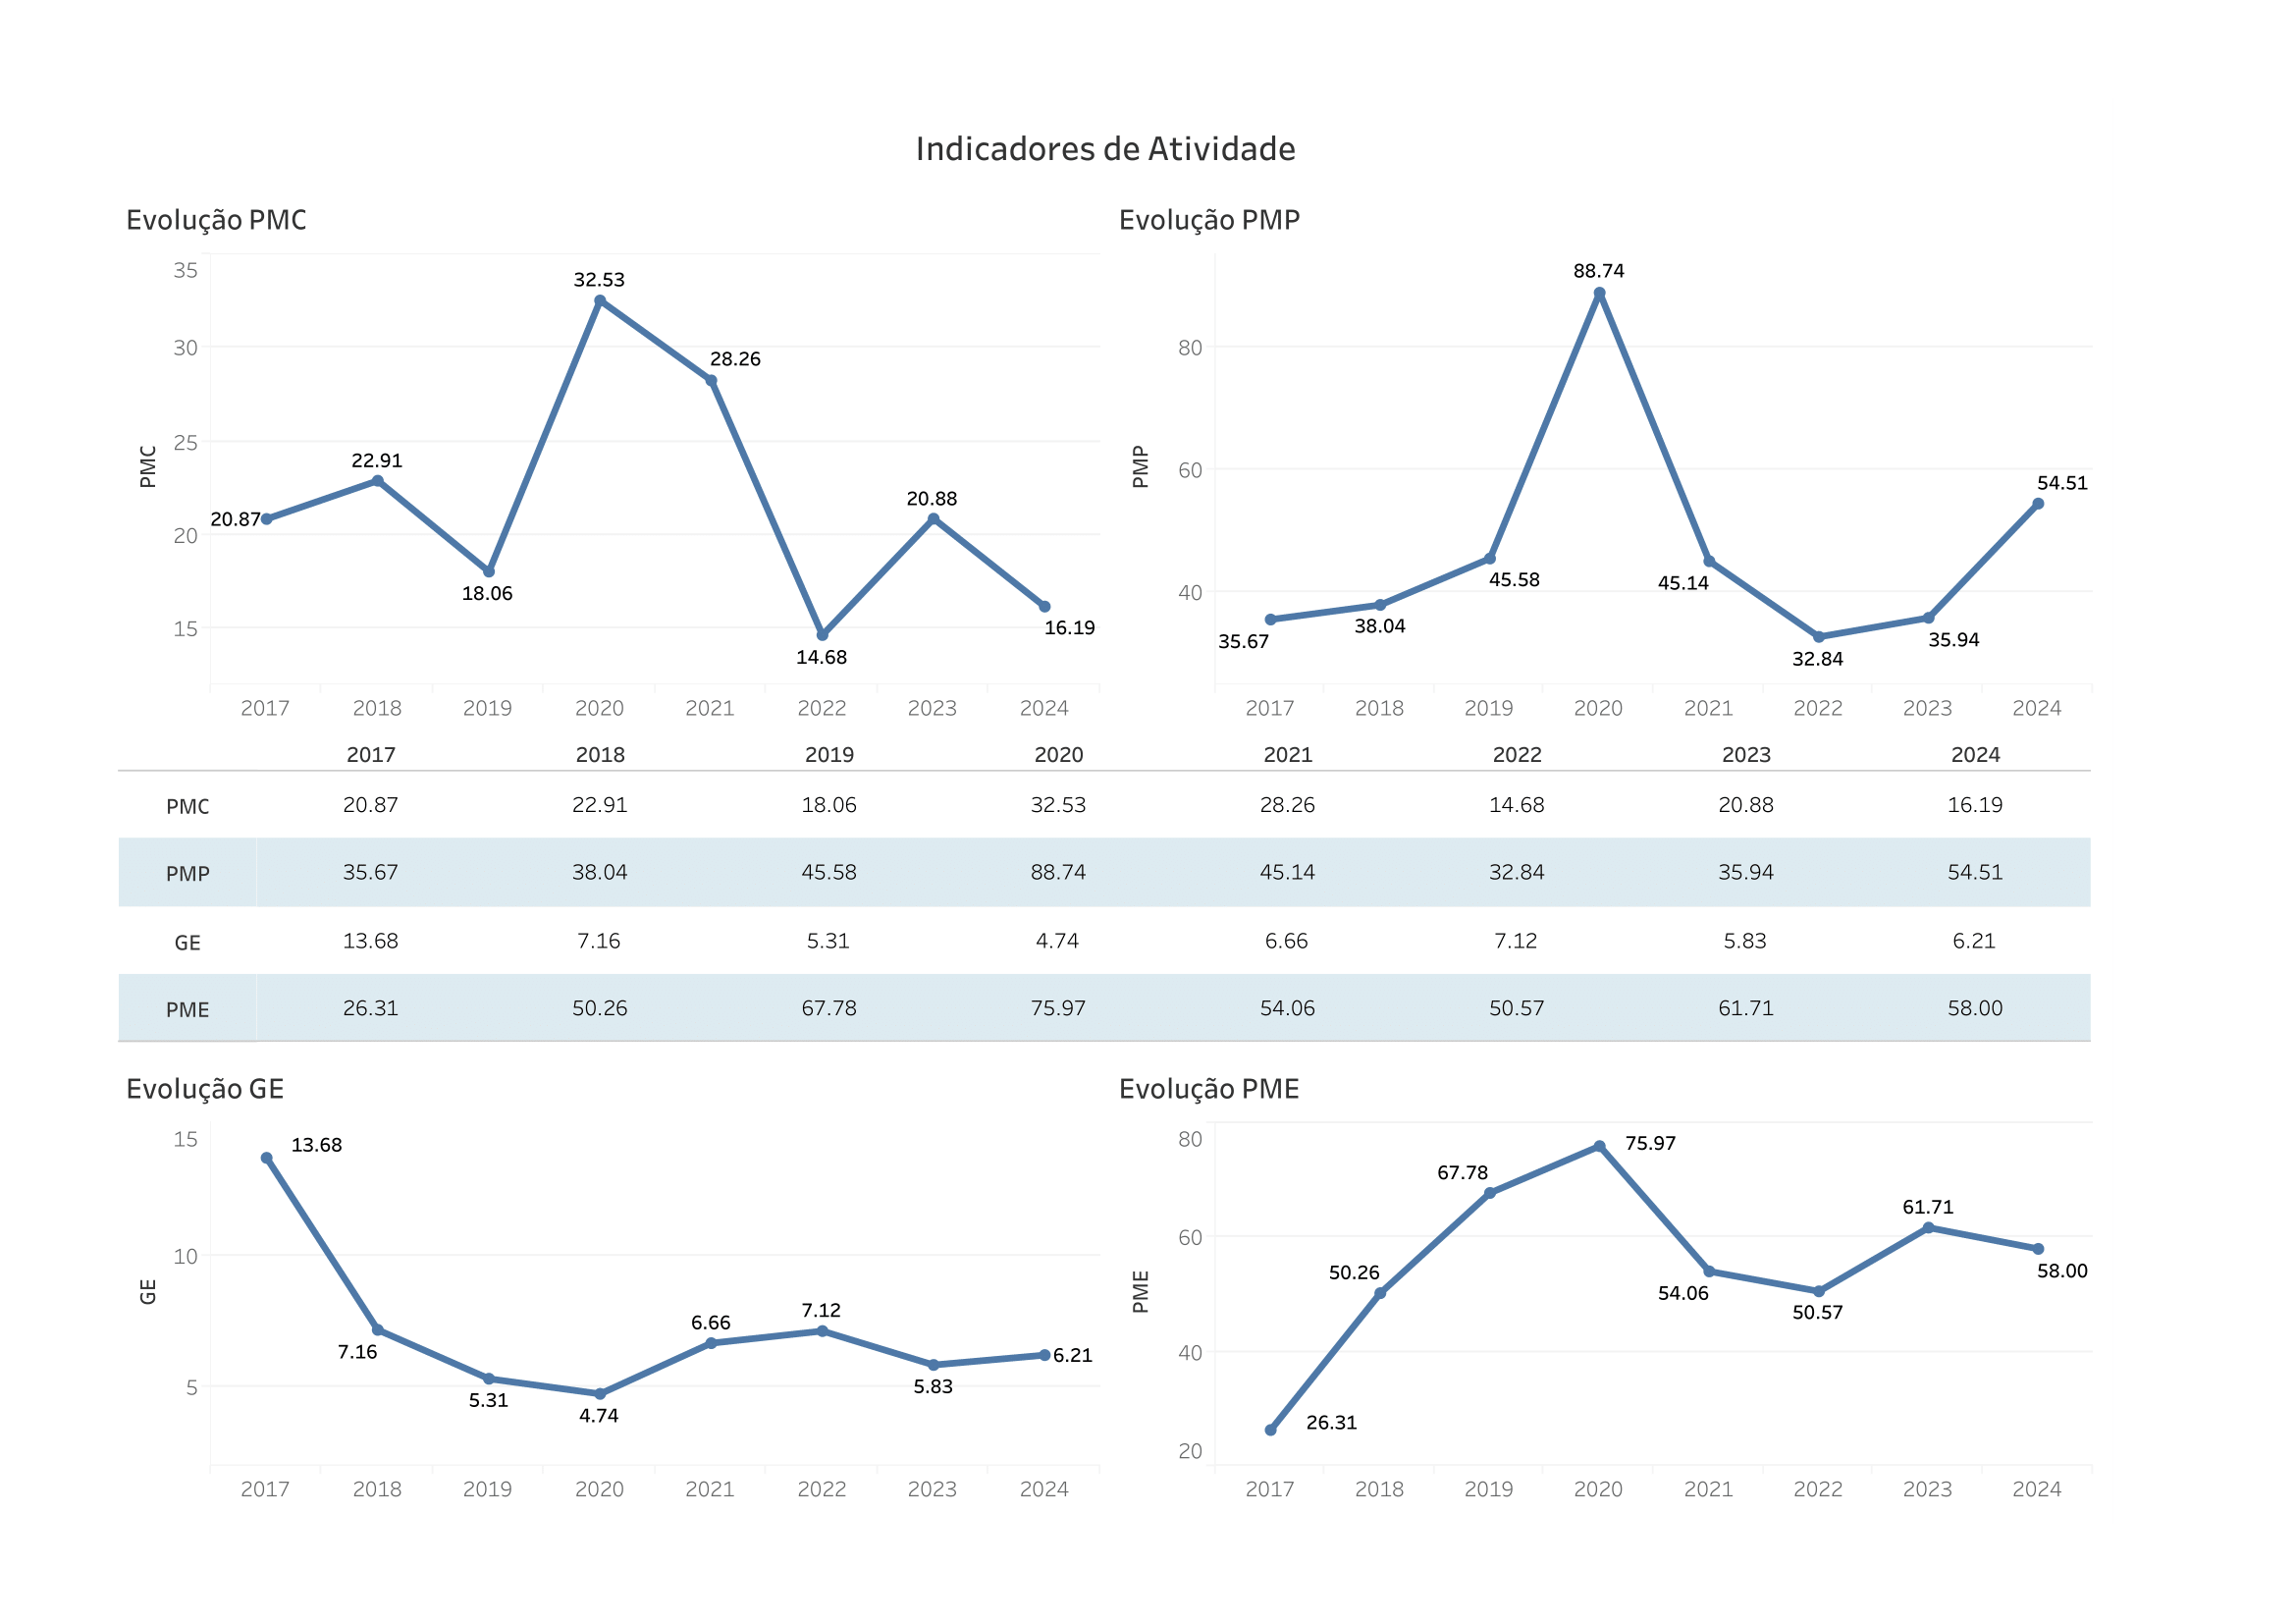

This screenshot's page, from the dashboard's own definition file:
{"tool":"tableau","page":{"name":"Atividade","canvas":[1169,827],"ordinal":0},"visuals":[{"type":"title","box":[8,8,1153,40]},{"type":"worksheet","title":"Evolução PMC","mark":"Line","rows":["PMC"],"cols":["Ano"],"box":[8,48,576.5,318]},{"type":"worksheet","title":"Evolução PMP","mark":"Line","rows":["PMP"],"cols":["Ano"],"box":[584.5,48,576.5,318]},{"type":"worksheet","title":"Tabela Ind. Atividade","mark":"Automatic","cols":["Ano"],"box":[8,366,1153,186]},{"type":"worksheet","title":"Evolução GE","mark":"Line","rows":["GE"],"cols":["Ano"],"box":[8,552,576.5,267]},{"type":"worksheet","title":"Evolução PME","mark":"Line","rows":["PME"],"cols":["Ano"],"box":[584.5,552,576.5,267]}]}

Visuals, with their boxes in screenshot pixels (x1, y1, x2, y2), scaled from the page's 1169x827 canvas onto the 2296x1623 screenshot:
title: box=[16, 16, 2280, 94]
"Evolução PMC" worksheet (Line marks): box=[16, 94, 1148, 719]
"Evolução PMP" worksheet (Line marks): box=[1148, 94, 2280, 719]
"Tabela Ind. Atividade" worksheet: box=[16, 719, 2280, 1083]
"Evolução GE" worksheet (Line marks): box=[16, 1083, 1148, 1607]
"Evolução PME" worksheet (Line marks): box=[1148, 1083, 2280, 1607]
